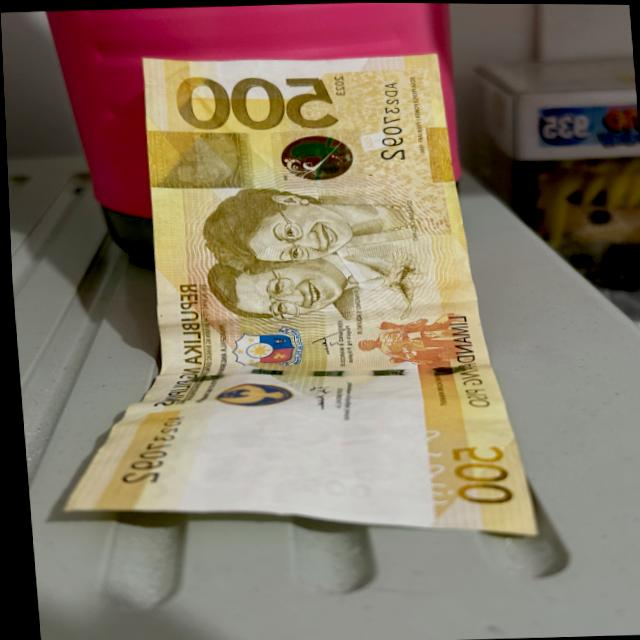concealed_value: (151, 131, 243, 182)
optically_variable_device: (269, 130, 354, 184)
security_thread: (180, 353, 467, 385)
see_through_mark: (402, 422, 444, 509)
serial_number: (109, 406, 184, 487), (364, 71, 416, 166)
value: (169, 73, 331, 130)
value_watermark: (285, 473, 368, 499)
